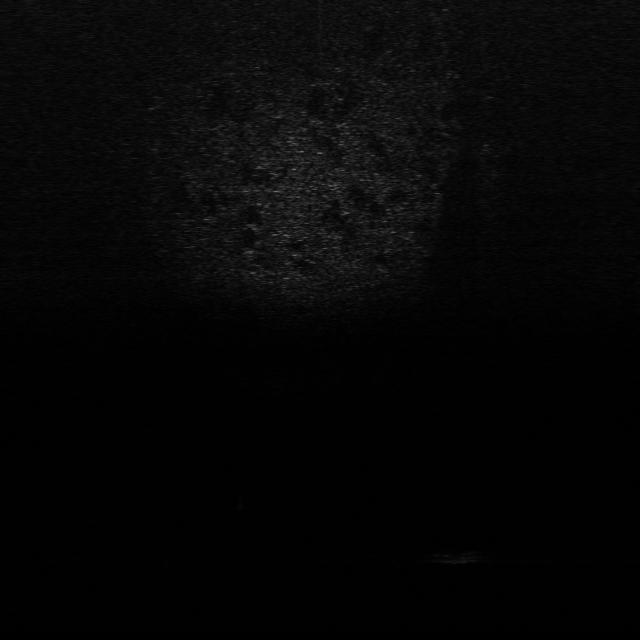metal bucket: (427, 539, 483, 567)
